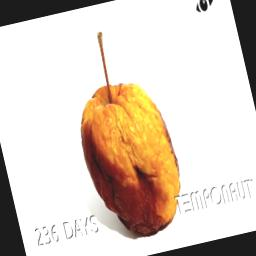Apple Rotten: (52, 8, 200, 245)
